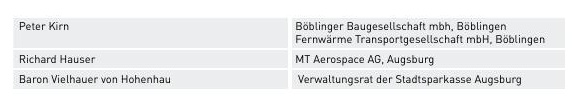table: (0, 0, 576, 104)
